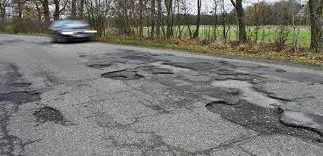pothole: (200, 100, 285, 128), (206, 77, 281, 101), (279, 122, 321, 142), (34, 102, 69, 125), (0, 89, 43, 105), (150, 60, 201, 72), (102, 69, 147, 82), (89, 60, 113, 72), (221, 70, 248, 78), (8, 80, 34, 88), (150, 72, 173, 76)
